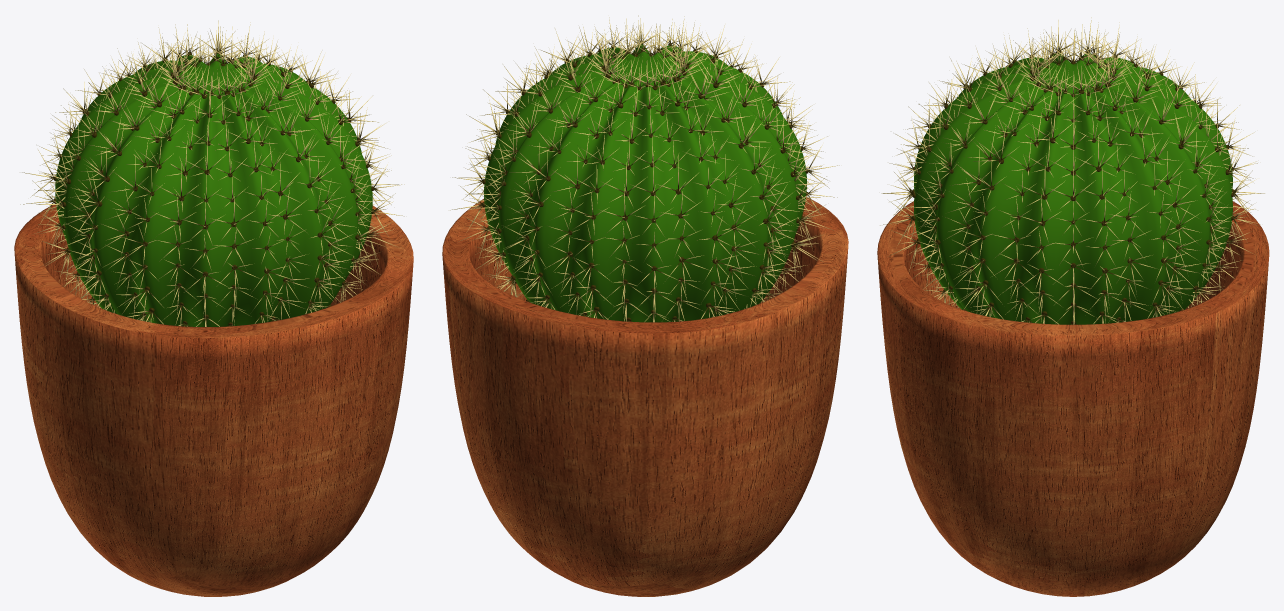
The model's file is PARODIA_LENINGHAUSII_WOODEN_POT.glb.
3 views of the same model, side by side, from view 1: azimuth 30°, elevation 25°; view 2: azimuth 150°, elevation 25°; view 3: azimuth 270°, elevation 25° (orthographic).
Parts seen in each view (by area): view 1: Cube, Cactus Ball1; view 2: Cube, Cactus Ball1; view 3: Cube, Cactus Ball1.
Part boxes in pixels (x1=…): Cube: x1=14, y1=203, x2=413, y2=596; Cactus Ball1: x1=55, y1=53, x2=372, y2=326; Cube: x1=442, y1=196, x2=848, y2=596; Cactus Ball1: x1=484, y1=44, x2=806, y2=322; Cube: x1=877, y1=201, x2=1269, y2=596; Cactus Ball1: x1=914, y1=53, x2=1232, y2=324.
Size of the model in its own units: 0.9193 by 1.4 by 0.9207.
3 materials, 2 textured.
